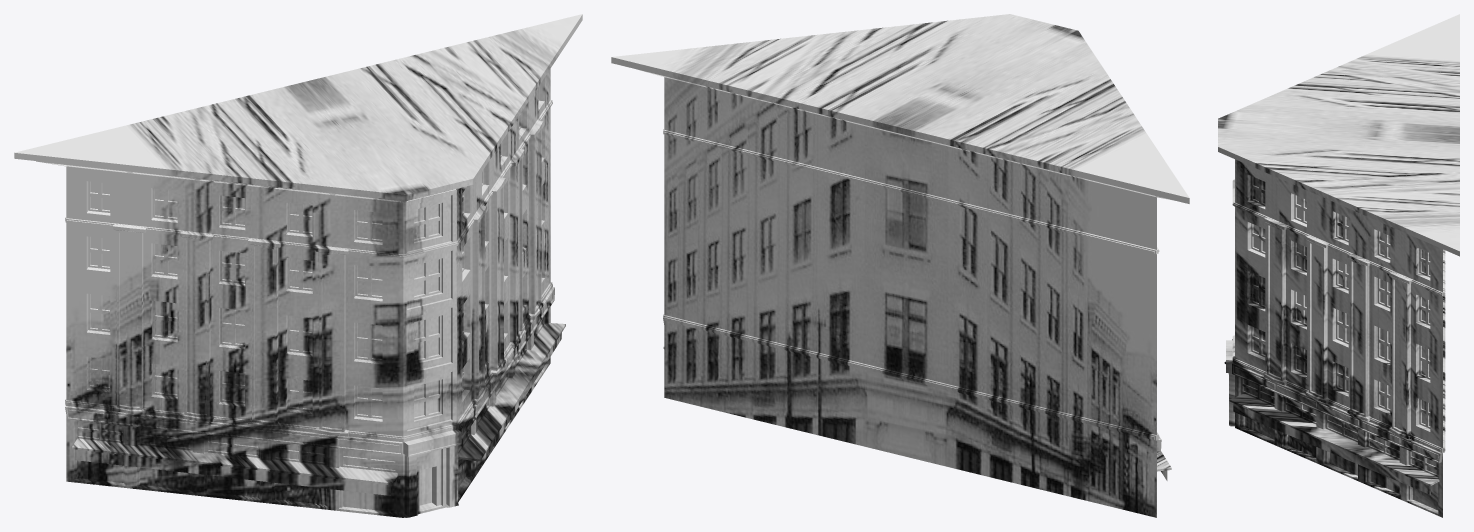
Rendered from boardman building.fbx.
3 views of the same model, side by side, from view 1: azimuth 30°, elevation 25°; view 2: azimuth 150°, elevation 25°; view 3: azimuth 270°, elevation 25° (orthographic). The views are drawn at different scales.
Parts seen in each view (by area): view 1: boardman_building; view 2: boardman_building; view 3: boardman_building.
Part boxes in pixels (left/top/right/bottom): boardman_building: left=14, top=14, right=582, bottom=517; boardman_building: left=611, top=14, right=1189, bottom=517; boardman_building: left=1218, top=14, right=1459, bottom=517.
Size of the model in its own units: 378 by 211 by 163.
1 material, 1 textured.
